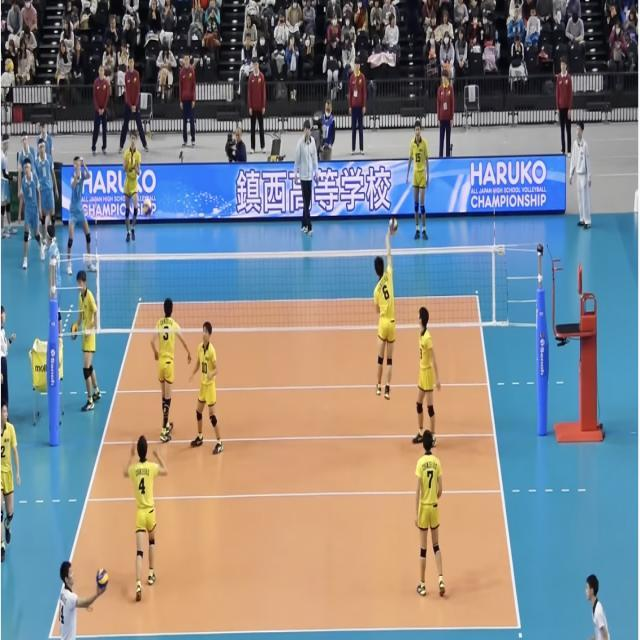spike: (366, 212, 402, 410)
